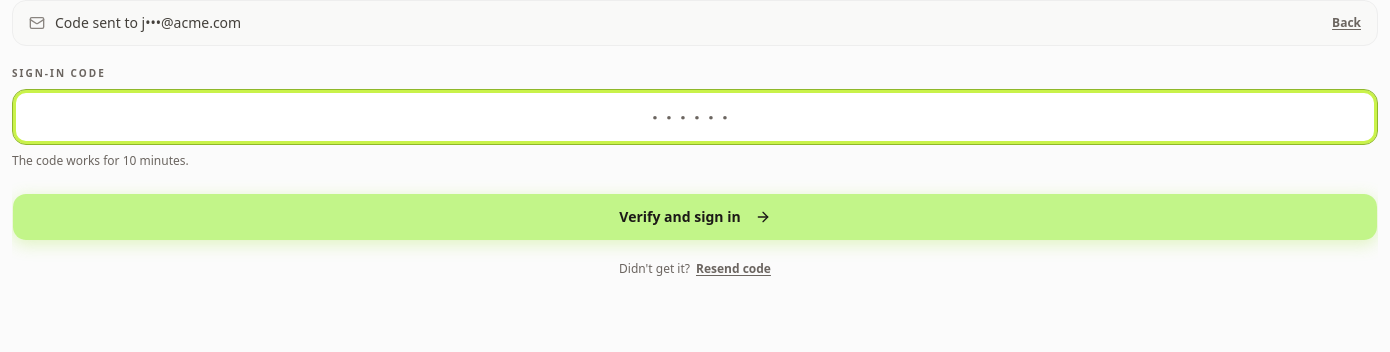
Test: CodeStep › resending › restarts the countdown from the wait the server reports when a click comes too soon
Click the button "Resend code": {"x": 734, "y": 269} x1=696 y1=261 x2=771 y2=277
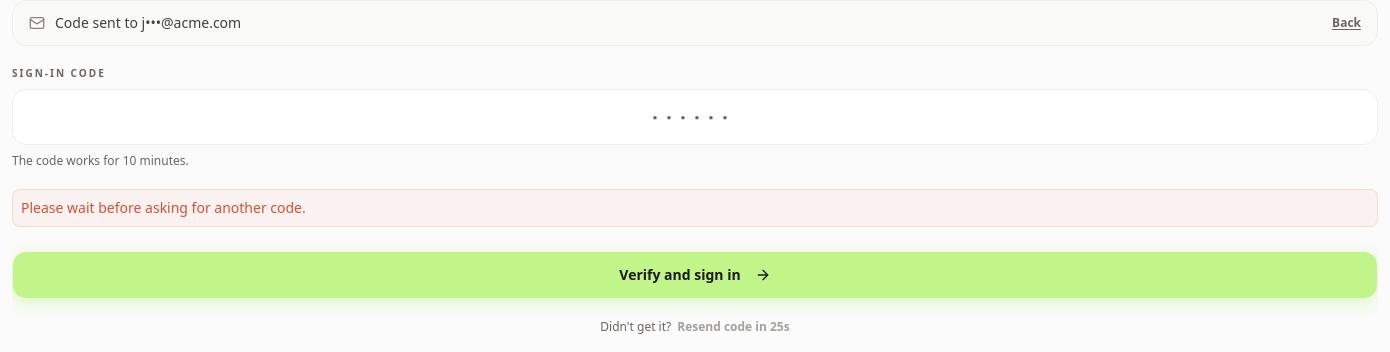
Result: the text "Please wait before asking for another code." is shown at x1=12 y1=189 x2=1378 y2=227
Result: the button with aria-label "Resend code in 25 seconds" is disabled at x1=677 y1=319 x2=790 y2=335
